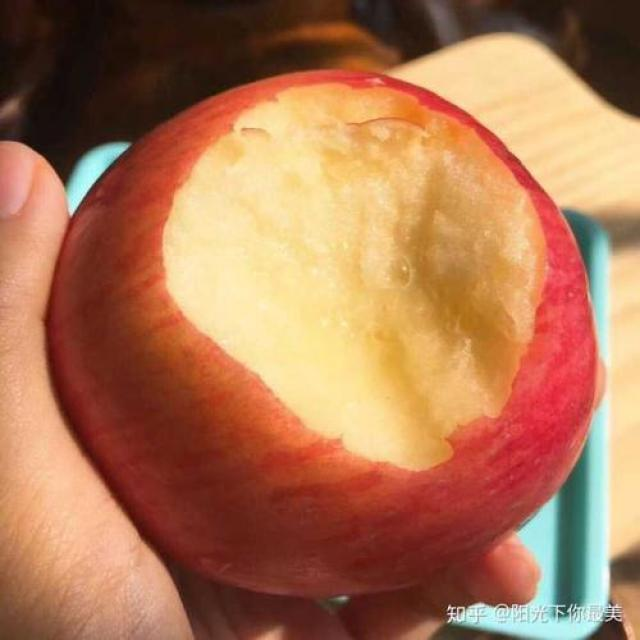Rotten: (70, 66, 606, 576)
